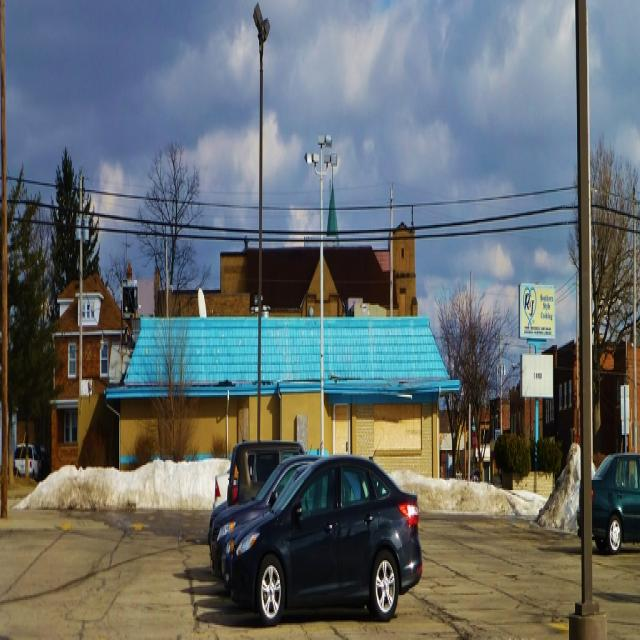Passenger Car: (230, 460, 422, 622), (575, 451, 640, 555)
